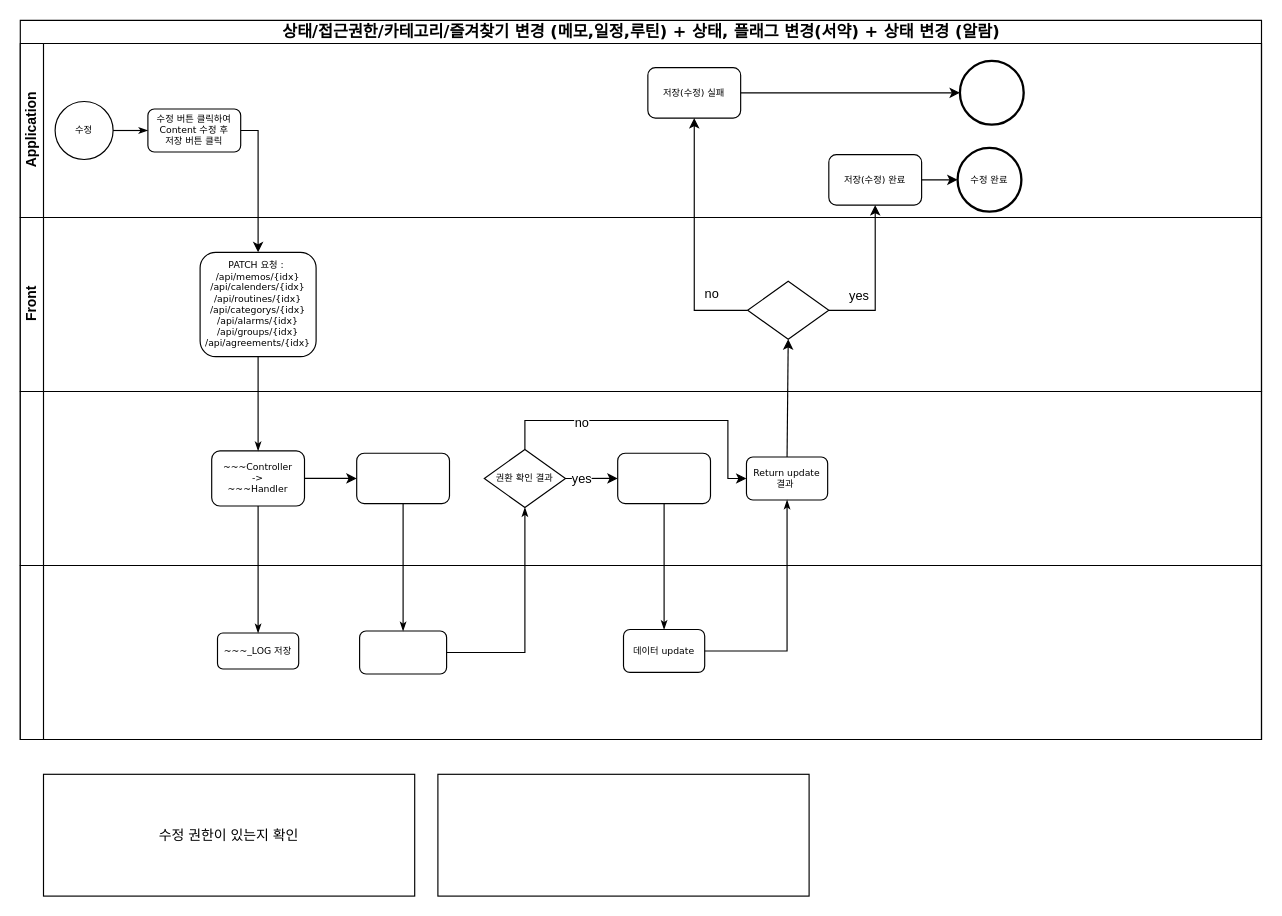
This 1282x916 diagram has some shape labels left out. Here are the shapes that lost their labels. From the top down, the box of each, then its label:
(958, 59, 1024, 125): 수정 실패
(746, 280, 829, 339): update 결과
(356, 452, 449, 504): DB 쿼리 요청 : 권한 확인 select
(19, 390, 1262, 566): Back
(617, 452, 710, 504): DB 쿼리 요청 : 수정 요청
(358, 630, 447, 674): Content 권한 확인select
(19, 564, 1262, 740): DB
